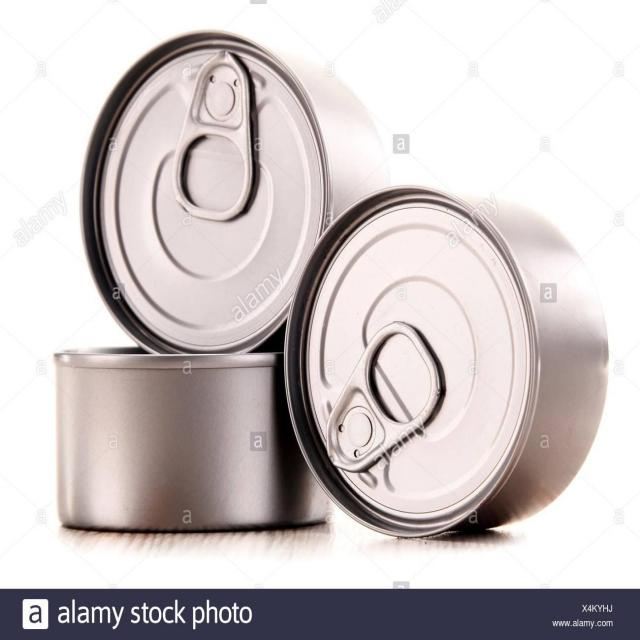metel: (296, 205, 591, 534), (97, 44, 378, 351), (53, 359, 339, 530)
